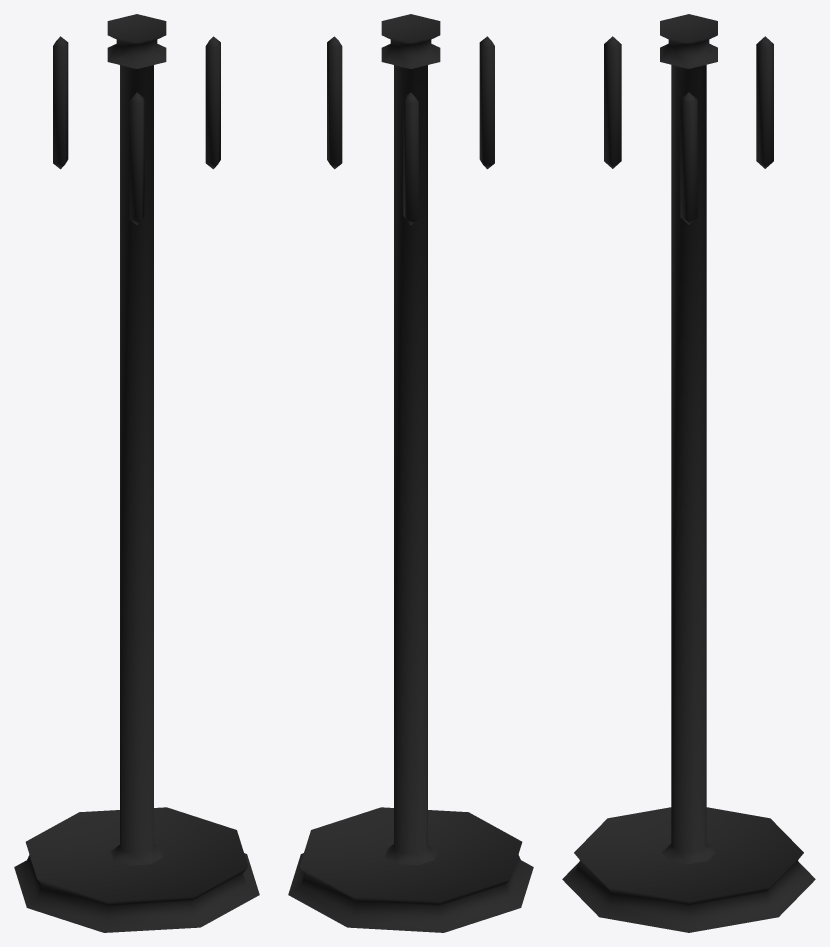
The model's file is iron-candle-tree.glb.
3 views of the same model, side by side, from view 1: azimuth 30°, elevation 25°; view 2: azimuth 150°, elevation 25°; view 3: azimuth 270°, elevation 25° (orthographic).
Visible parts, largest first — view 1: iron_candle_tree; view 2: iron_candle_tree; view 3: iron_candle_tree.
Boxes of the visible parts, <box> form: iron_candle_tree: <box>14,14,259,932</box>; iron_candle_tree: <box>288,14,533,932</box>; iron_candle_tree: <box>562,14,815,932</box>.
Size of the model in its own units: 0.4325 by 1.6 by 0.4325.
1 material, 1 textured.
